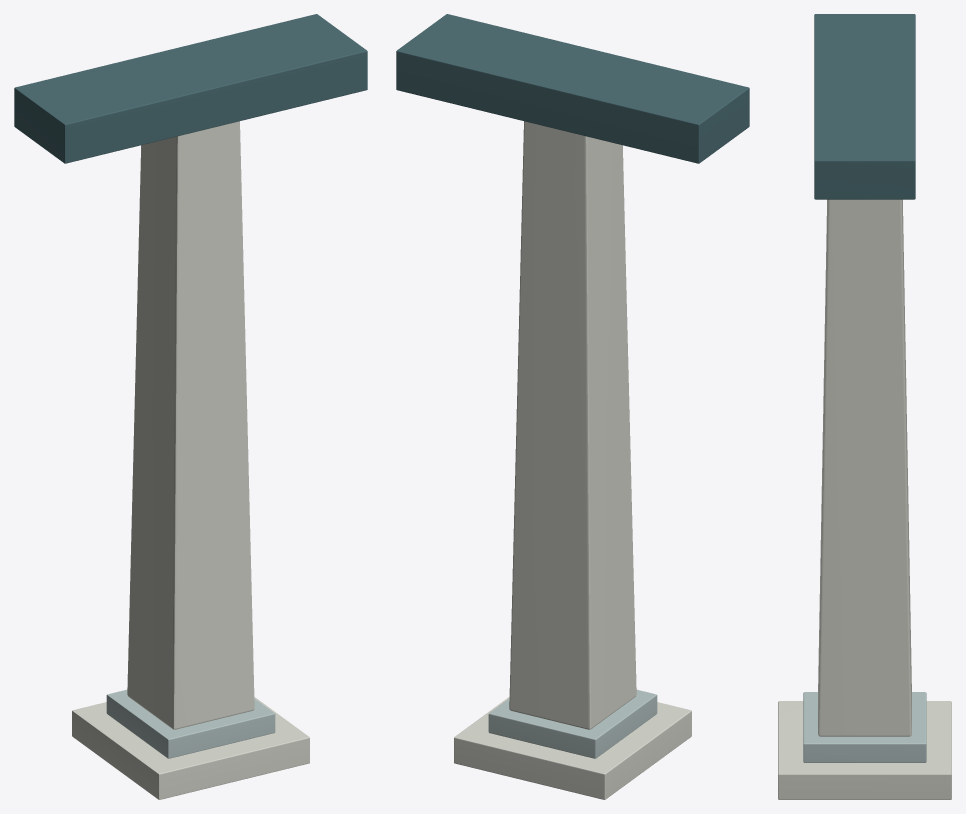
Rendered from d06_harbour_footbridge_06_support_tall.glb.
3 renders of one model, left to right at view 1: azimuth 30°, elevation 25°; view 2: azimuth 150°, elevation 25°; view 3: azimuth 270°, elevation 25°, orthographic.
Parts seen in each view (by area): view 1: D06HarbourFootbridge06_support_tall_Mesh; view 2: D06HarbourFootbridge06_support_tall_Mesh; view 3: D06HarbourFootbridge06_support_tall_Mesh.
Boxes of the visible parts, x1,y1,x2,y2 form: D06HarbourFootbridge06_support_tall_Mesh: [14, 14, 367, 799]; D06HarbourFootbridge06_support_tall_Mesh: [396, 14, 749, 799]; D06HarbourFootbridge06_support_tall_Mesh: [778, 14, 951, 799].
Bounding box in the file's own units: 2.4 × 5.15 × 1.2.
